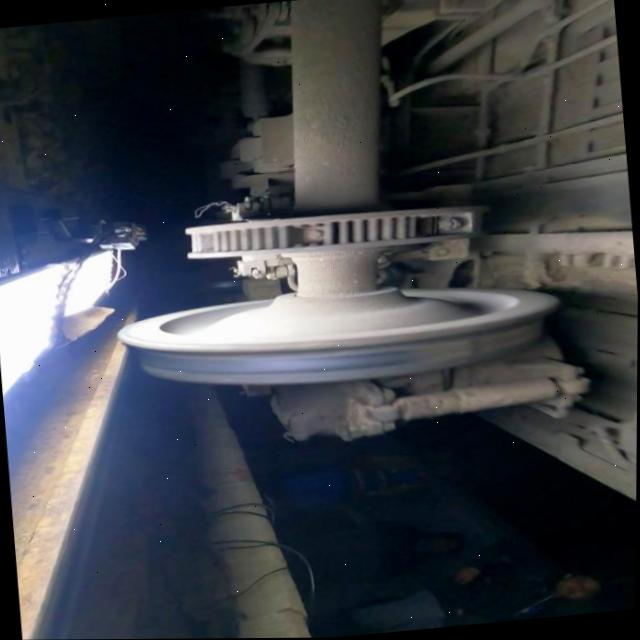Discoloration: (292, 348, 413, 375)
Shelling: (414, 320, 542, 366)
Wheel: (120, 287, 559, 384)
